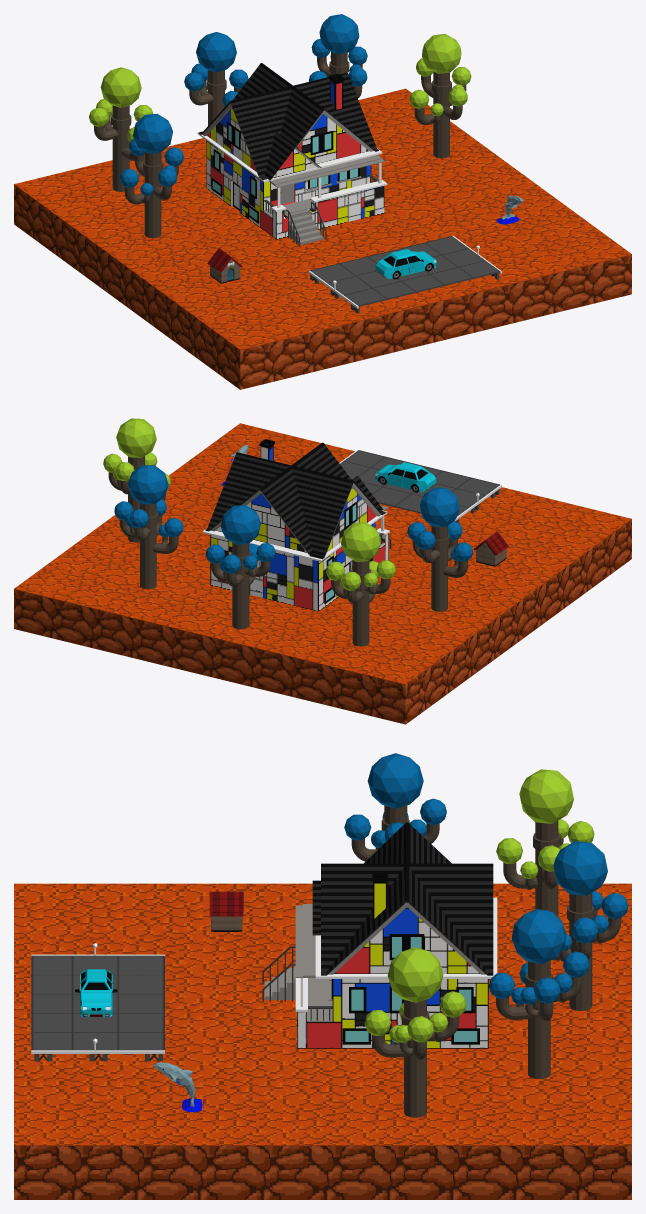
3 views of the same model, one above another, from view 1: azimuth 30°, elevation 25°; view 2: azimuth 150°, elevation 25°; view 3: azimuth 270°, elevation 25° (orthographic). The views are drawn at different scales.
Visible parts, largest first — view 1: Cube.001, Cube.840, VEHICLES_CAR, OBJRANDOM_DOGHOUSE; view 2: Cube.001, Cube.840, VEHICLES_CAR, OBJRANDOM_DOGHOUSE; view 3: Cube.001, Cube.840, VEHICLES_CAR, OBJRANDOM_DOGHOUSE, ANIMAL_DELFIN.
Part boxes in pixels (<box>): Cube.001: <box>14,14,631,389</box>; Cube.840: <box>197,63,387,246</box>; VEHICLES_CAR: <box>375,249,436,279</box>; OBJRANDOM_DOGHOUSE: <box>207,248,242,283</box>; Cube.001: <box>14,418,631,724</box>; Cube.840: <box>202,439,391,611</box>; VEHICLES_CAR: <box>374,462,436,492</box>; OBJRANDOM_DOGHOUSE: <box>473,531,508,566</box>; Cube.001: <box>14,753,631,1199</box>; Cube.840: <box>262,822,497,1048</box>; VEHICLES_CAR: <box>75,969,117,1016</box>; OBJRANDOM_DOGHOUSE: <box>209,891,243,931</box>; ANIMAL_DELFIN: <box>153,1062,204,1112</box>.
Size of the model in its own units: 4000 by 1667 by 4000.
37 materials, 5 textured.
